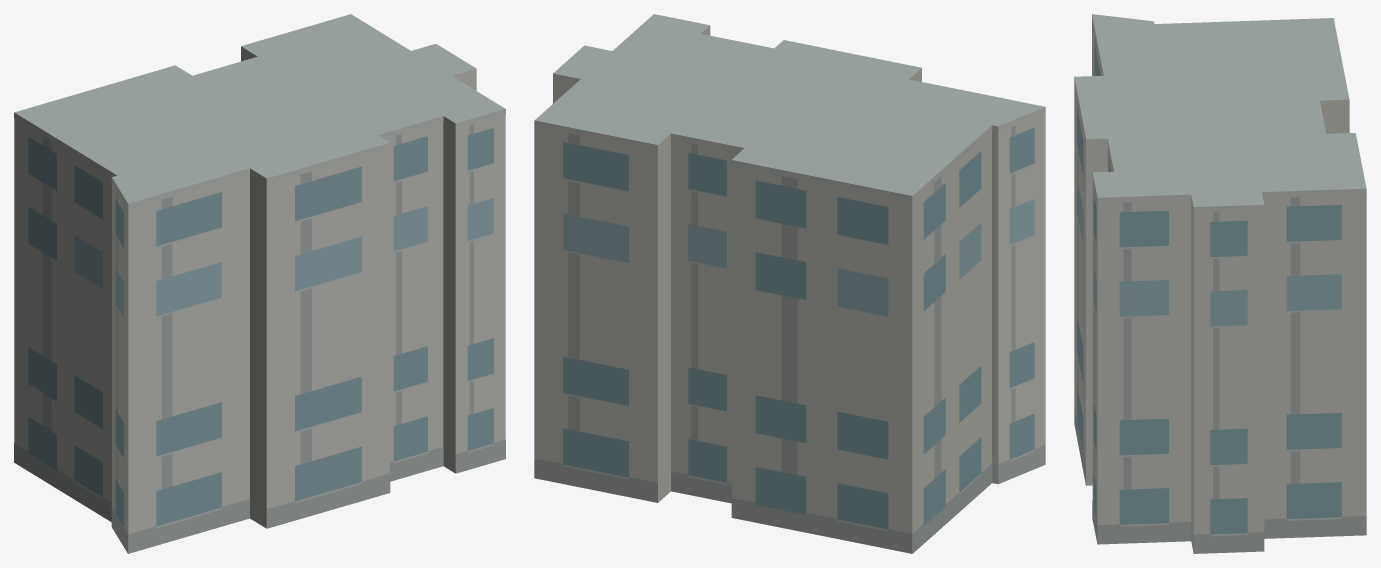
The model's file is residential-ea2b0b0e-eb44-405f-afe1-dabd2b05591d.glb.
3 views of the same model, side by side, from view 1: azimuth 30°, elevation 25°; view 2: azimuth 150°, elevation 25°; view 3: azimuth 270°, elevation 25° (orthographic). The views are drawn at different scales.
Visible parts, largest first — view 1: residential-ea2b0b0e-eb44-405f-afe1-dabd2b05591d.tmp; view 2: residential-ea2b0b0e-eb44-405f-afe1-dabd2b05591d.tmp; view 3: residential-ea2b0b0e-eb44-405f-afe1-dabd2b05591d.tmp.
Part boxes in pixels (x1=…): residential-ea2b0b0e-eb44-405f-afe1-dabd2b05591d.tmp: x1=14, y1=14, x2=505, y2=553; residential-ea2b0b0e-eb44-405f-afe1-dabd2b05591d.tmp: x1=534, y1=14, x2=1045, y2=553; residential-ea2b0b0e-eb44-405f-afe1-dabd2b05591d.tmp: x1=1074, y1=14, x2=1366, y2=553.
Bounding box in the file's own units: 17.34 × 14.5 × 11.09.
